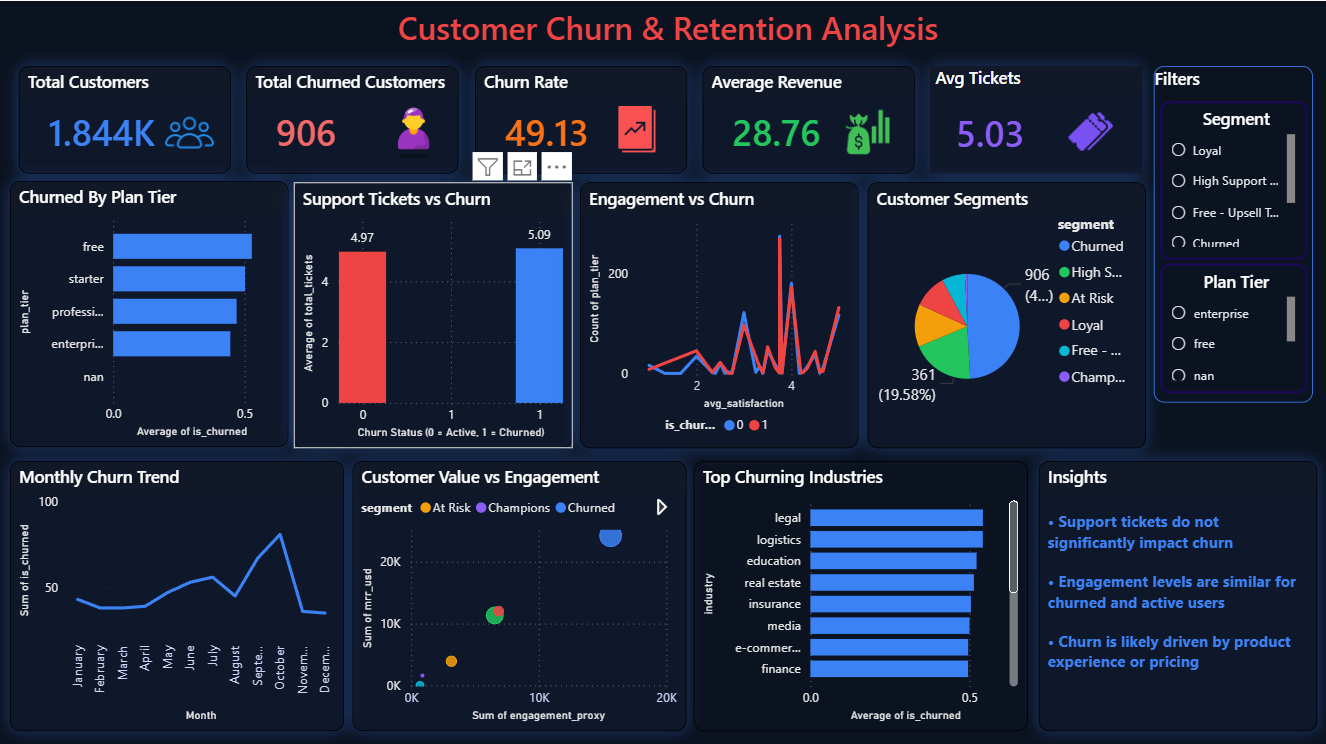

The page's visual inventory and layout, read from the dashboard file:
{"tool":"powerbi","page":{"name":"DASHBOARD","canvas":[1280,720],"ordinal":0},"visuals":[{"type":"shape","title":"  Filters","box":[1113.5,62.7,153.2,324.5],"z":0},{"type":"cardVisual","title":"Total Customers","fields":{"Data":["CountNonNull(nimbus_final_dataset.customer_id)"]},"box":[18.1,62.7,205,103.8],"z":1000},{"type":"cardVisual","title":"Total Churned Customers","fields":{"Data":["Sum(nimbus_final_dataset.is_churned)"]},"box":[237.9,62.7,205.1,103.8],"z":2000},{"type":"cardVisual","title":"Churn Rate","fields":{"Data":["nimbus_final_dataset.Churn Rate"]},"box":[458.7,62.7,205.1,103.8],"z":3000},{"type":"cardVisual","title":"Average Revenue","fields":{"Data":["nimbus_final_dataset.Avg Revenue"]},"box":[678.3,62.7,205.1,103.8],"z":4000},{"type":"cardVisual","title":"Avg Tickets","fields":{"Data":["nimbus_final_dataset.Avg Tickets"]},"box":[897.8,62.7,205.1,103.8],"z":5000},{"type":"clusteredBarChart","title":"Churned By Plan Tier","fields":{"Category":["nimbus_final_dataset.plan_tier"],"Y":["Avg(nimbus_final_dataset.is_churned)"]},"box":[9.7,173.7,269,257],"z":6000},{"type":"columnChart","title":"Support Tickets vs Churn","fields":{"Category":["nimbus_final_dataset.is_churned"],"Y":["Avg(nimbus_final_dataset.total_tickets)"]},"box":[283.5,174.9,269,257],"z":7000},{"type":"lineChart","title":"Engagement vs Churn","fields":{"Category":["nimbus_final_dataset.avg_satisfaction"],"Series":["nimbus_final_dataset.is_churned"],"Y":["CountNonNull(nimbus_final_dataset.plan_tier)"]},"box":[559.8,174.9,269,257],"z":8000},{"type":"pieChart","title":"Customer Segments","fields":{"Category":["nimbus_final_dataset.segment"],"Y":["CountNonNull(nimbus_final_dataset.customer_id)"]},"box":[837.3,174.9,269,257],"z":9000},{"type":"scatterChart","title":"Customer Value vs Engagement","fields":{"X":["Sum(nimbus_final_dataset.engagement_proxy)"],"Y":["Sum(nimbus_final_dataset.mrr_usd)"],"Size":["Sum(nimbus_final_dataset.total_tickets)"],"Series":["nimbus_final_dataset.segment"]},"box":[340.2,444,322.1,260.6],"z":10000},{"type":"textbox","title":"Insights","box":[1002.6,444,269,260.6],"z":11000},{"type":"lineChart","title":"Monthly Churn Trend ","fields":{"Y":["Sum(nimbus_final_dataset.is_churned)"],"Category":["nimbus_final_dataset.end_date.Variation.Date Hierarchy.Month"]},"box":[9.7,444,322,260.6],"z":12000},{"type":"clusteredBarChart","title":"Top Churning Industries","fields":{"Y":["Avg(nimbus_final_dataset.is_churned)"],"Category":["nimbus_final_dataset.industry"]},"box":[669.6,444,322,260.6],"z":13000},{"type":"textbox","title":"Customer Churn & Retention Analysis ","box":[9.6,4.8,1270.4,50.7],"z":14000},{"type":"listSlicer","title":"Segment","fields":{"Values":["nimbus_final_dataset.segment"]},"box":[1119.6,96.5,142.4,153.2],"z":15000},{"type":"listSlicer","title":"Plan Tier","fields":{"Values":["nimbus_final_dataset.plan_tier"]},"box":[1119.6,253.4,142.4,125.5],"z":16000},{"type":"image","box":[159.3,96.5,47.1,60.3],"z":17000},{"type":"image","box":[374,98.9,50.7,55.5],"z":18000},{"type":"image","box":[592.4,98.9,45,50],"z":19000},{"type":"image","box":[814.3,101.3,45.8,50.7],"z":20000},{"type":"image","box":[1030.3,101.3,45.8,50.7],"z":21000}]}

Visuals, with their boxes in screenshot pixels (x1, y1, x2, y2), scaled from the page's 1280x720 canvas onto the 1326x744 screenshot:
"  Filters" shape: left=1154, top=65, right=1312, bottom=400
"Total Customers" cardVisual: left=19, top=65, right=231, bottom=172
"Total Churned Customers" cardVisual: left=246, top=65, right=459, bottom=172
"Churn Rate" cardVisual: left=475, top=65, right=688, bottom=172
"Average Revenue" cardVisual: left=703, top=65, right=915, bottom=172
"Avg Tickets" cardVisual: left=930, top=65, right=1143, bottom=172
"Churned By Plan Tier" clusteredBarChart: left=10, top=179, right=289, bottom=445
"Support Tickets vs Churn" columnChart: left=294, top=181, right=572, bottom=446
"Engagement vs Churn" lineChart: left=580, top=181, right=859, bottom=446
"Customer Segments" pieChart: left=867, top=181, right=1146, bottom=446
"Customer Value vs Engagement" scatterChart: left=352, top=459, right=686, bottom=728
"Insights" textbox: left=1039, top=459, right=1317, bottom=728
"Monthly Churn Trend " lineChart: left=10, top=459, right=344, bottom=728
"Top Churning Industries" clusteredBarChart: left=694, top=459, right=1027, bottom=728
"Customer Churn & Retention Analysis " textbox: left=10, top=5, right=1325, bottom=57
"Segment" listSlicer: left=1160, top=100, right=1307, bottom=258
"Plan Tier" listSlicer: left=1160, top=262, right=1307, bottom=392
image: left=165, top=100, right=214, bottom=162
image: left=387, top=102, right=440, bottom=160
image: left=614, top=102, right=660, bottom=154
image: left=844, top=105, right=891, bottom=157
image: left=1067, top=105, right=1115, bottom=157
